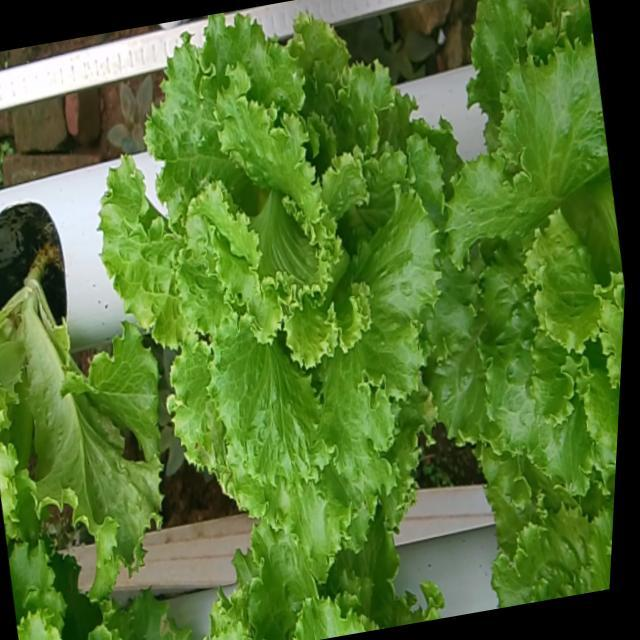Mature: (96, 17, 439, 559), (425, 31, 625, 493)
